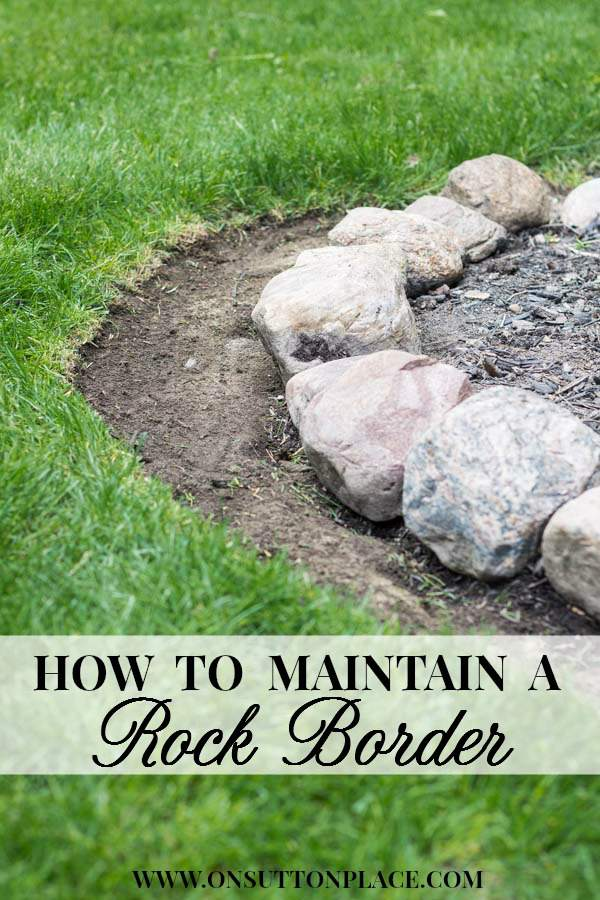dirt: (80, 229, 260, 465), (196, 472, 429, 619)
grass: (6, 0, 594, 178), (3, 184, 104, 616)
rock: (254, 160, 595, 603)
